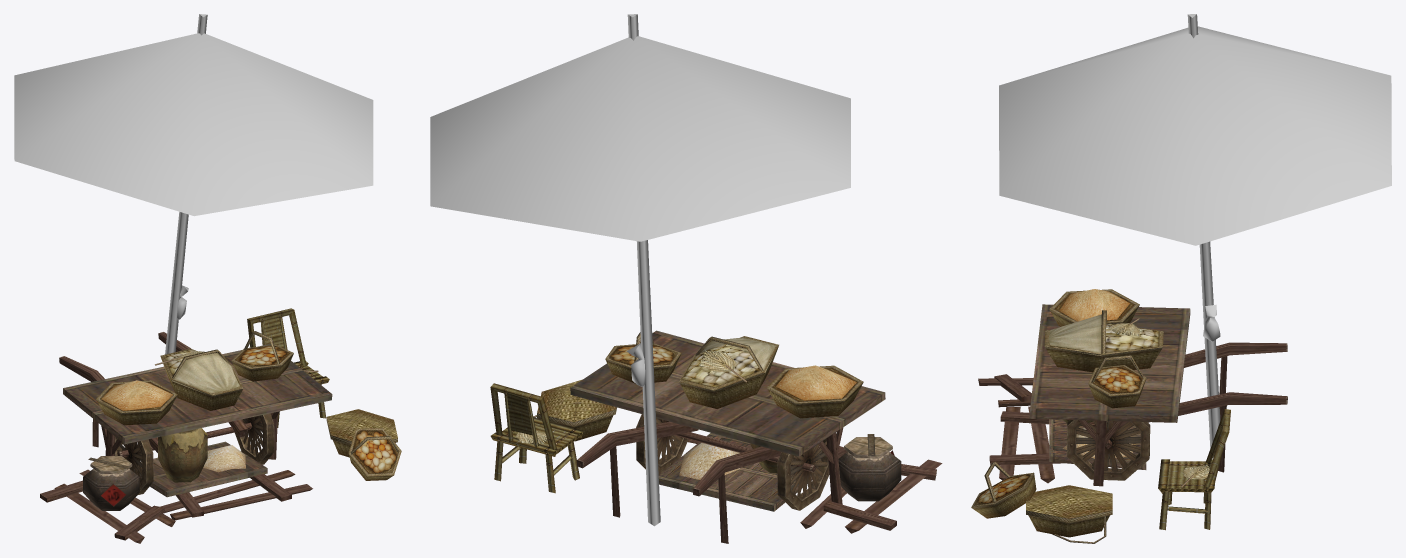
Rendered from zahuotan_cl_60.FBX.
3 renders of one model, left to right at view 1: azimuth 30°, elevation 25°; view 2: azimuth 150°, elevation 25°; view 3: azimuth 270°, elevation 25°, orthographic. The views are drawn at different scales.
Parts seen in each view (by area): view 1: zahuotan_cl_60; view 2: zahuotan_cl_60; view 3: zahuotan_cl_60.
Part boxes in pixels (x1=…): zahuotan_cl_60: x1=14, y1=14, x2=401, y2=543; zahuotan_cl_60: x1=430, y1=14, x2=942, y2=543; zahuotan_cl_60: x1=971, y1=14, x2=1391, y2=543.
Bounding box in the file's own units: 539 × 595 × 496.
